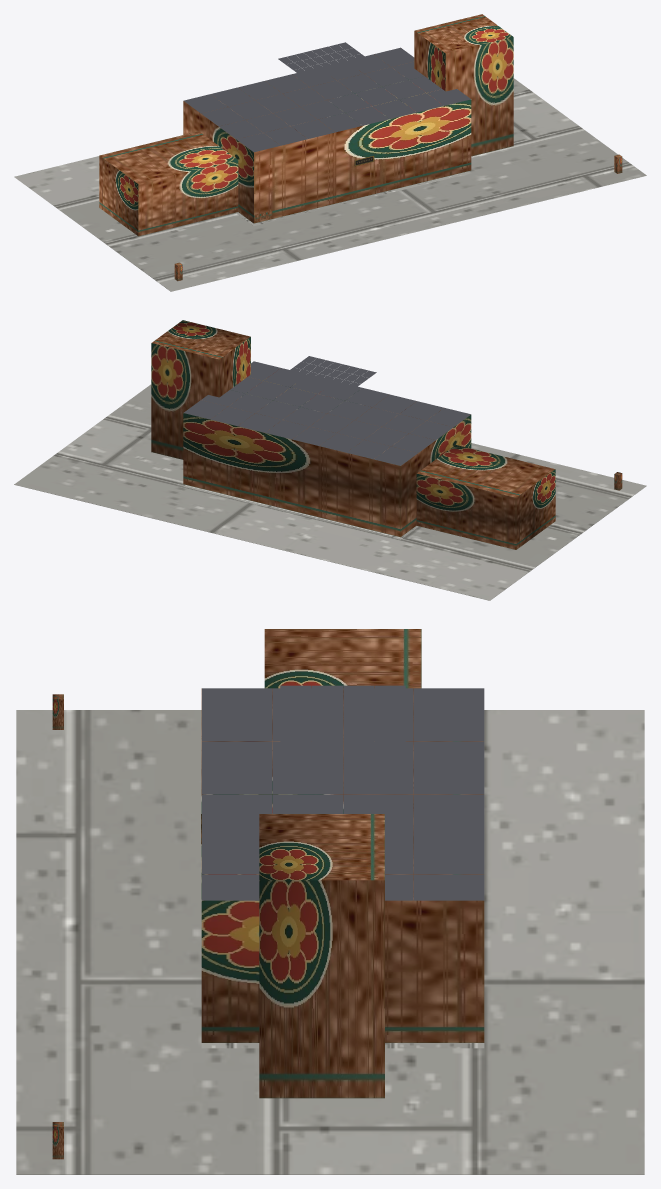
3 renders of one model, top to bottom at view 1: azimuth 30°, elevation 25°; view 2: azimuth 150°, elevation 25°; view 3: azimuth 270°, elevation 25°, orthographic. The views are drawn at different scales.
Visible parts, largest first — view 1: 11710_01_05551_002_02_L2__body, 11710_01_05551_002_01_L2__base, 11710_01_05551_002_03_L2__roof; view 2: 11710_01_05551_002_02_L2__body, 11710_01_05551_002_01_L2__base, 11710_01_05551_002_03_L2__roof; view 3: 11710_01_05551_002_01_L2__base, 11710_01_05551_002_02_L2__body, 11710_01_05551_002_03_L2__roof, 11710_01_05551_002_06_L2__green.
Boxes of the visible parts, x1,y1,x2,y2 form: 11710_01_05551_002_02_L2__body: [99, 14, 513, 236]; 11710_01_05551_002_01_L2__base: [14, 78, 646, 291]; 11710_01_05551_002_03_L2__roof: [183, 42, 470, 152]; 11710_01_05551_002_02_L2__body: [151, 320, 555, 549]; 11710_01_05551_002_01_L2__base: [14, 384, 646, 600]; 11710_01_05551_002_03_L2__roof: [184, 356, 470, 465]; 11710_01_05551_002_01_L2__base: [16, 710, 644, 1174]; 11710_01_05551_002_02_L2__body: [201, 629, 484, 1098]; 11710_01_05551_002_03_L2__roof: [202, 685, 484, 900]; 11710_01_05551_002_06_L2__green: [52, 694, 63, 1159].
Size of the model in its own units: 210 by 47.22 by 120.
Materials: 5 (5 with a texture image).
